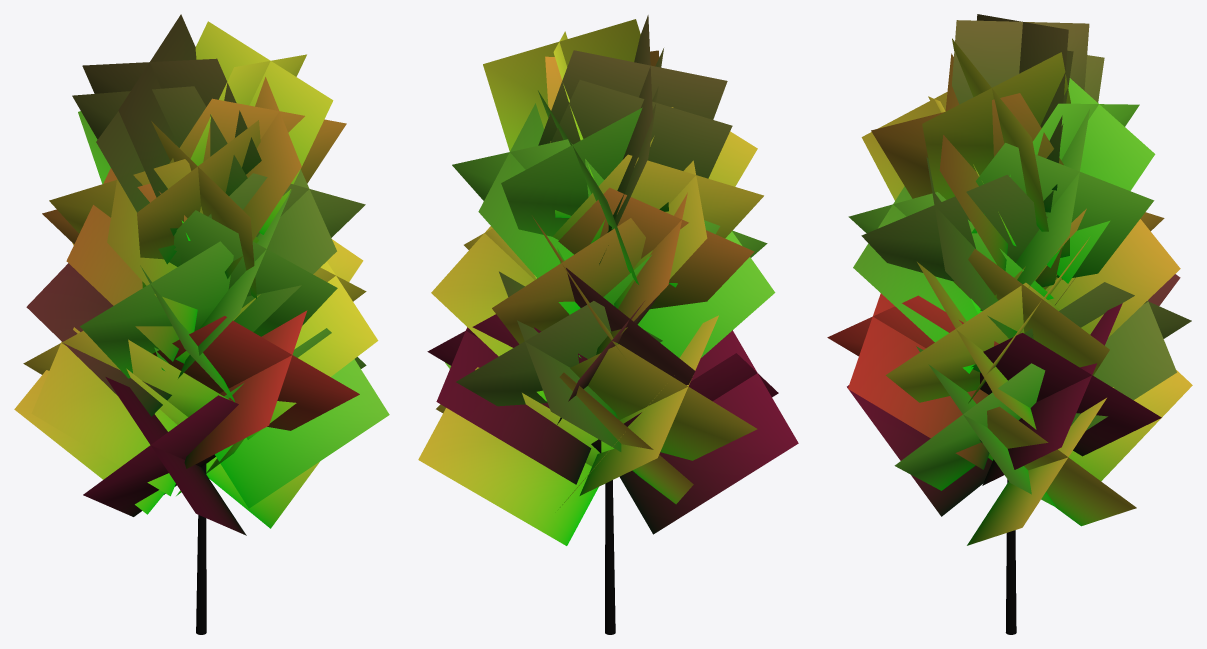
Rendered from Tree_19.fbx.
3 renders of one model, left to right at view 1: azimuth 30°, elevation 25°; view 2: azimuth 150°, elevation 25°; view 3: azimuth 270°, elevation 25°, orthographic.
Visible parts, largest first — view 1: Tree_19; view 2: Tree_19; view 3: Tree_19.
Boxes of the visible parts, x1=… form: Tree_19: x1=14, y1=14, x2=389, y2=634; Tree_19: x1=418, y1=15, x2=798, y2=634; Tree_19: x1=827, y1=14, x2=1192, y2=634.
Size of the model in its own units: 1069 by 1872 by 1022.
